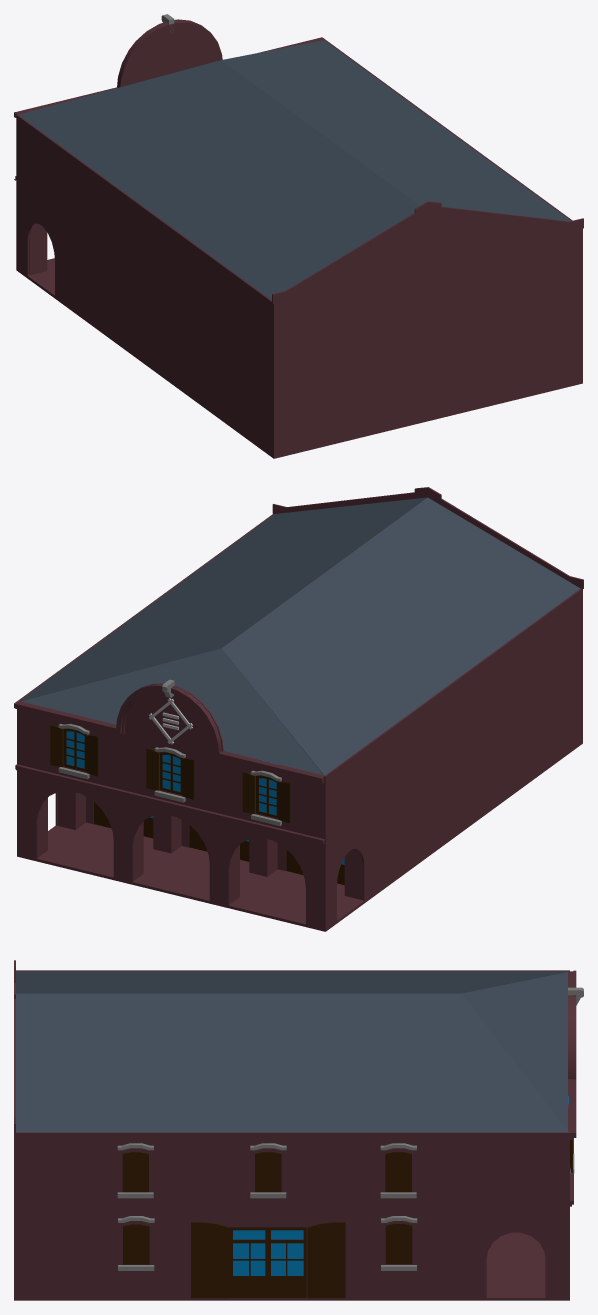
File: 三井倉庫(新址).fbx
3 renders of one model, top to bottom at view 1: azimuth 30°, elevation 25°; view 2: azimuth 150°, elevation 25°; view 3: azimuth 270°, elevation 25°, orthographic. The views are drawn at different scales.
Visible parts, largest first — view 1: 基本牆 (×7), 樓板 (×4), 105 x 105 cm(磚牆); view 2: 樓板 (×5), 基本牆 (×14), 105 x 105 cm(磚牆) (×4); view 3: 樓板 (×5), 基本牆 (×18).
Part boxes in pixels (<box>): 基本牆 (×7): <box>14,19,583,455</box>; 樓板 (×4): <box>16,40,582,458</box>; 105 x 105 cm(磚牆): <box>29,223,47,275</box>; 樓板 (×5): <box>17,497,582,931</box>; 基本牆 (×14): <box>14,487,583,928</box>; 105 x 105 cm(磚牆) (×4): <box>57,791,362,899</box>; 樓板 (×5): <box>14,971,569,1300</box>; 基本牆 (×18): <box>14,960,576,1298</box>.
Size of the model in its own units: 59.89 by 87.44 by 40.
